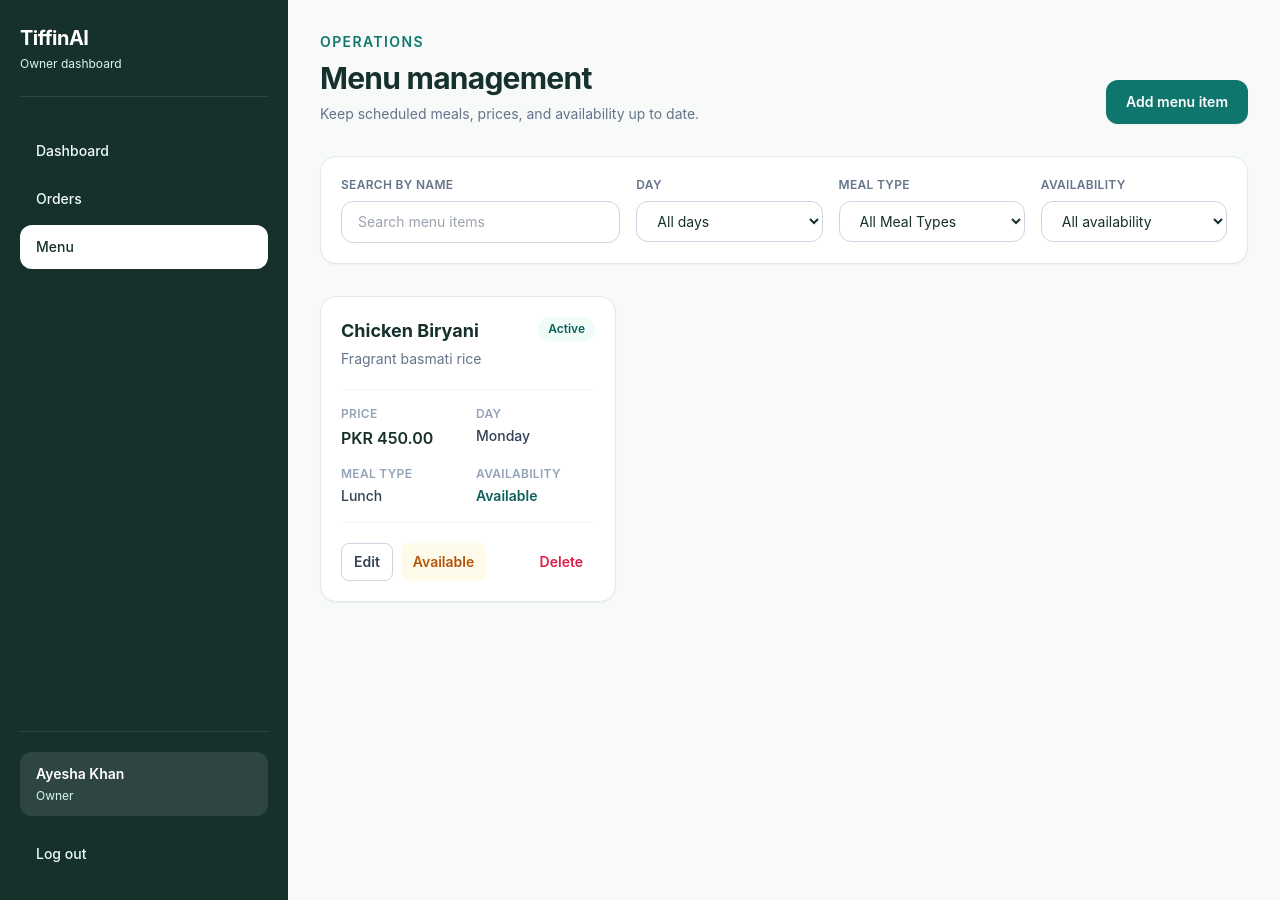
Test: Menu management › updates availability optimistically and confirms the server result
Click the button with aria-label "mark sold out: chicken biryani" at (444,562), box [401, 543, 486, 581]
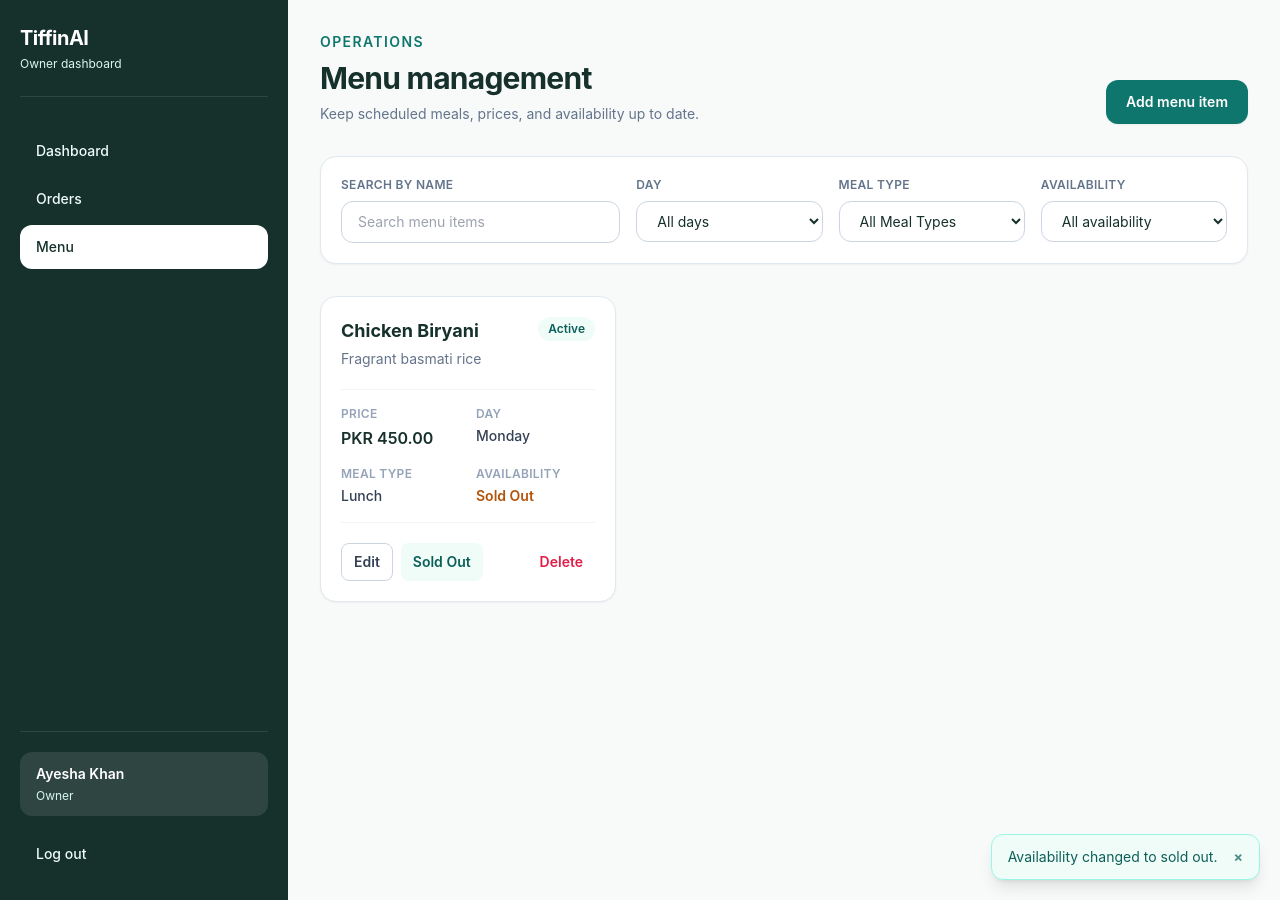
Result: the text "Sold Out" is shown at [476, 487, 534, 504]
Result: the message shows "Availability changed to sold out" at [1008, 848, 1217, 865]
